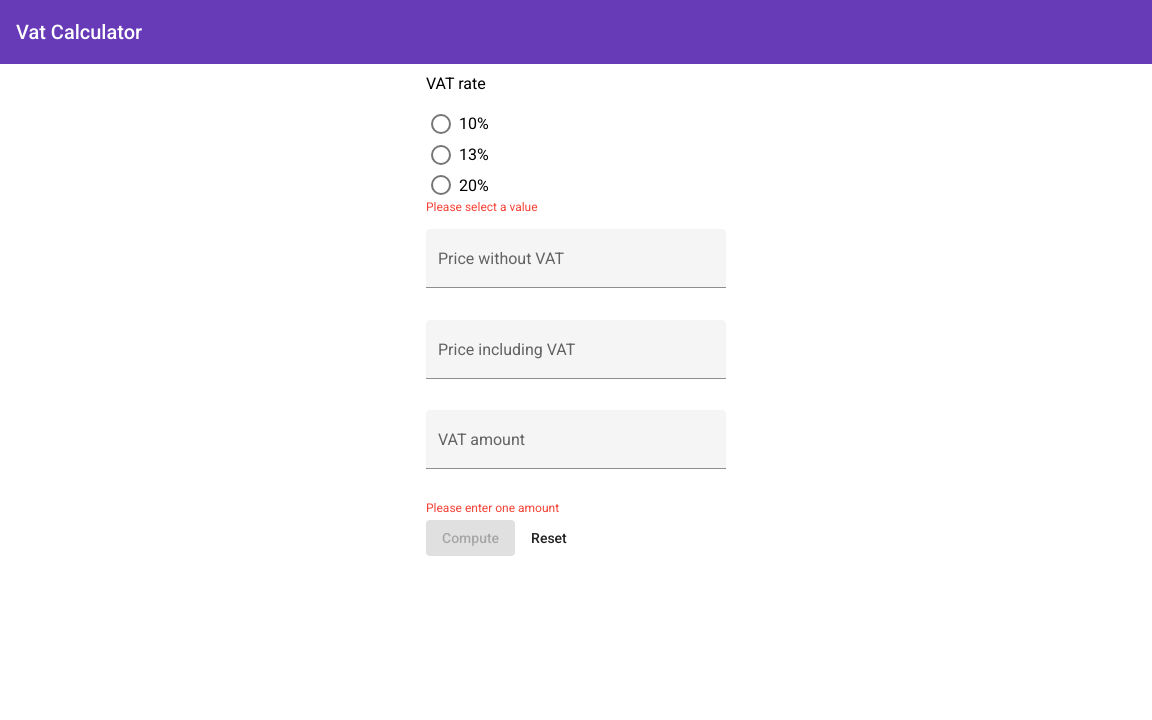
Test: should correctly compute the VAT amount and the price with VAT given a valid VAT rate and price without VAT
Click the text "10%": (474, 124) [459,114,489,133]
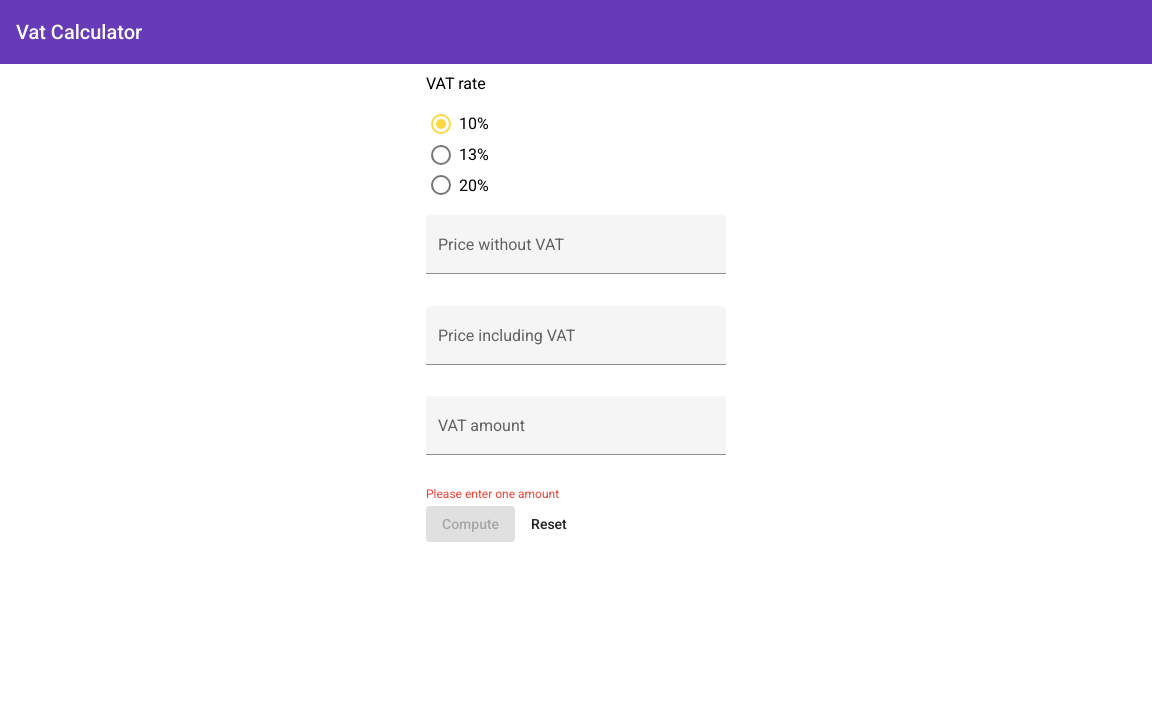
In the element showing "Price without VAT": (576, 256) [426,215,726,296], type "10"
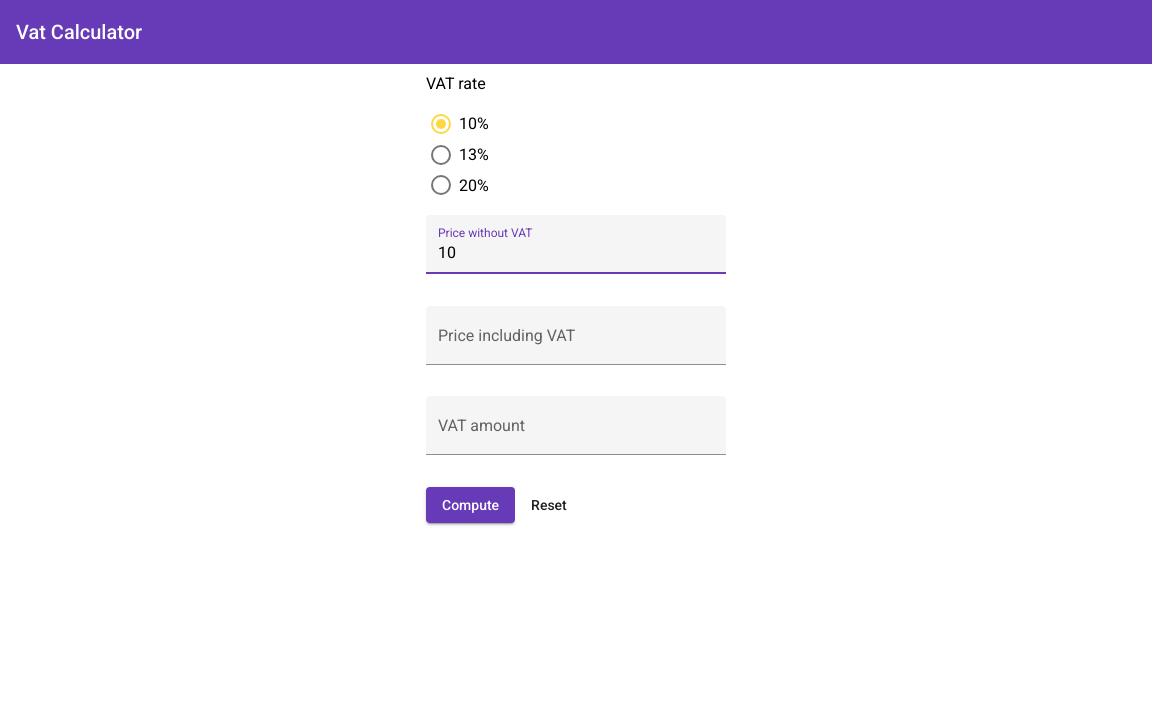
Click the submit button: (471, 505) [426,487,515,523]
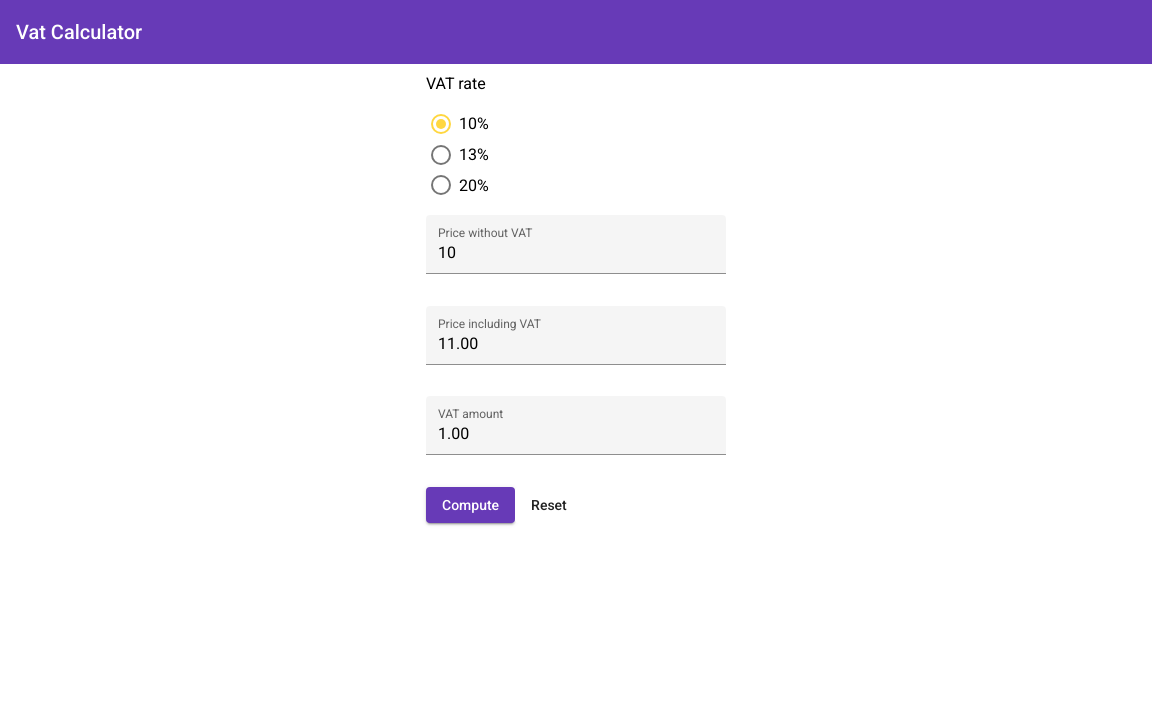
Now the field labelled "VAT amount" holds "1.00", box [438,425,714,443]
Now the field labelled "Price including VAT" holds "11.00", box [438,335,714,353]
